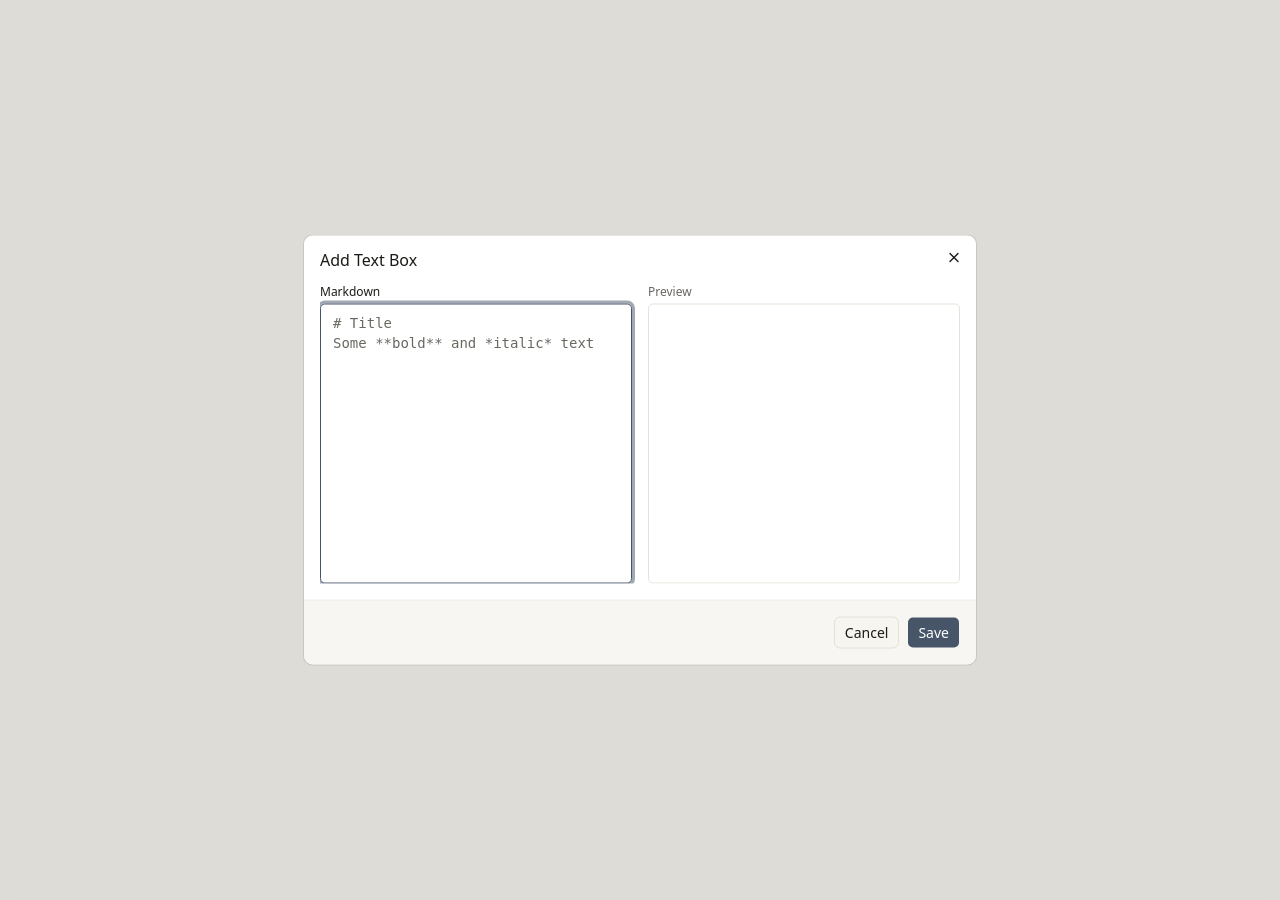
Test case: TextboxDialog heading hint › says nothing once the heading is well formed
This screenshot has width=1280, height=900.
Step 1. Type "## Text box header" into the text box labelled "Markdown" → (476, 444), box [320,304,632,584]
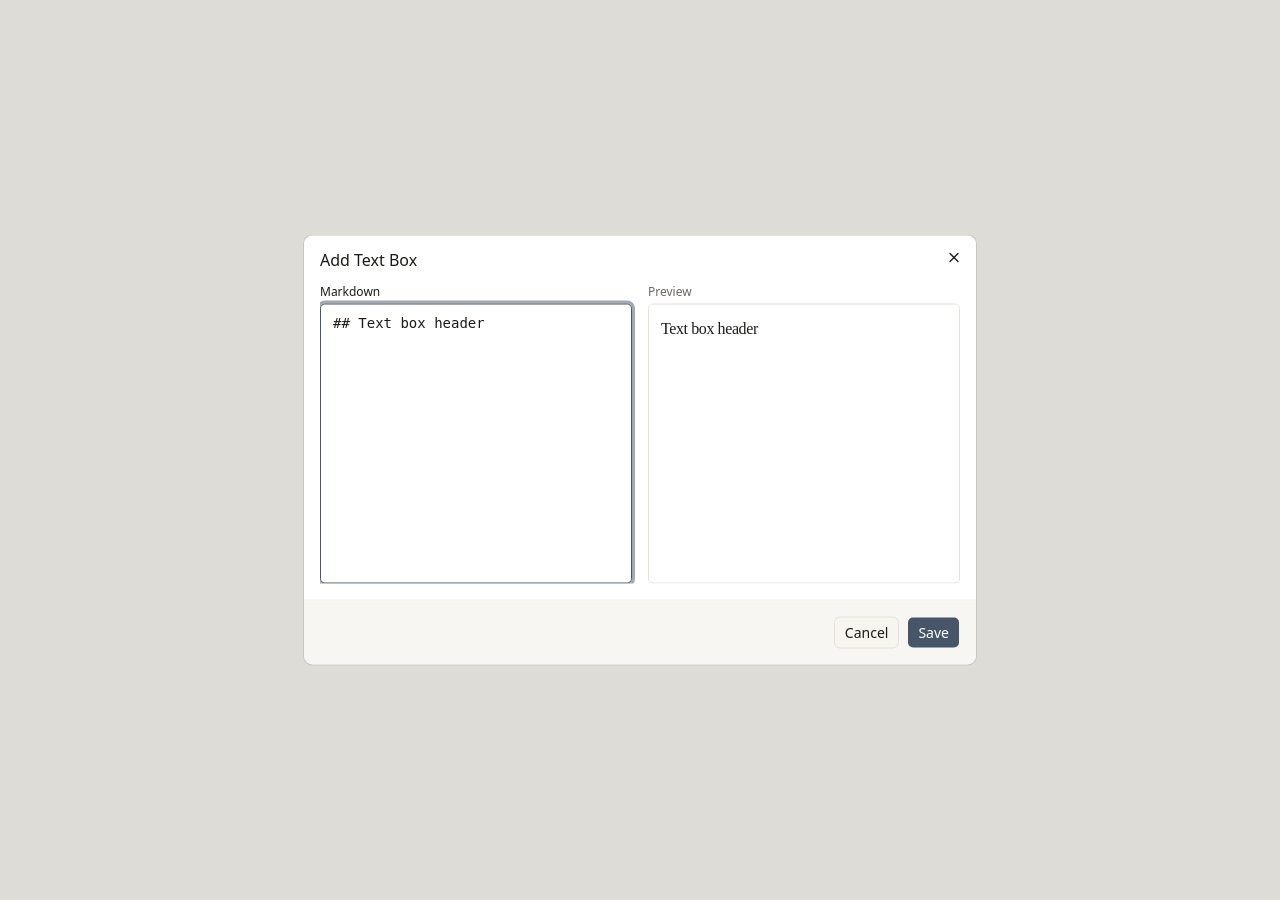
Expected: the heading "Text box header" is shown, [661,320,758,336]
